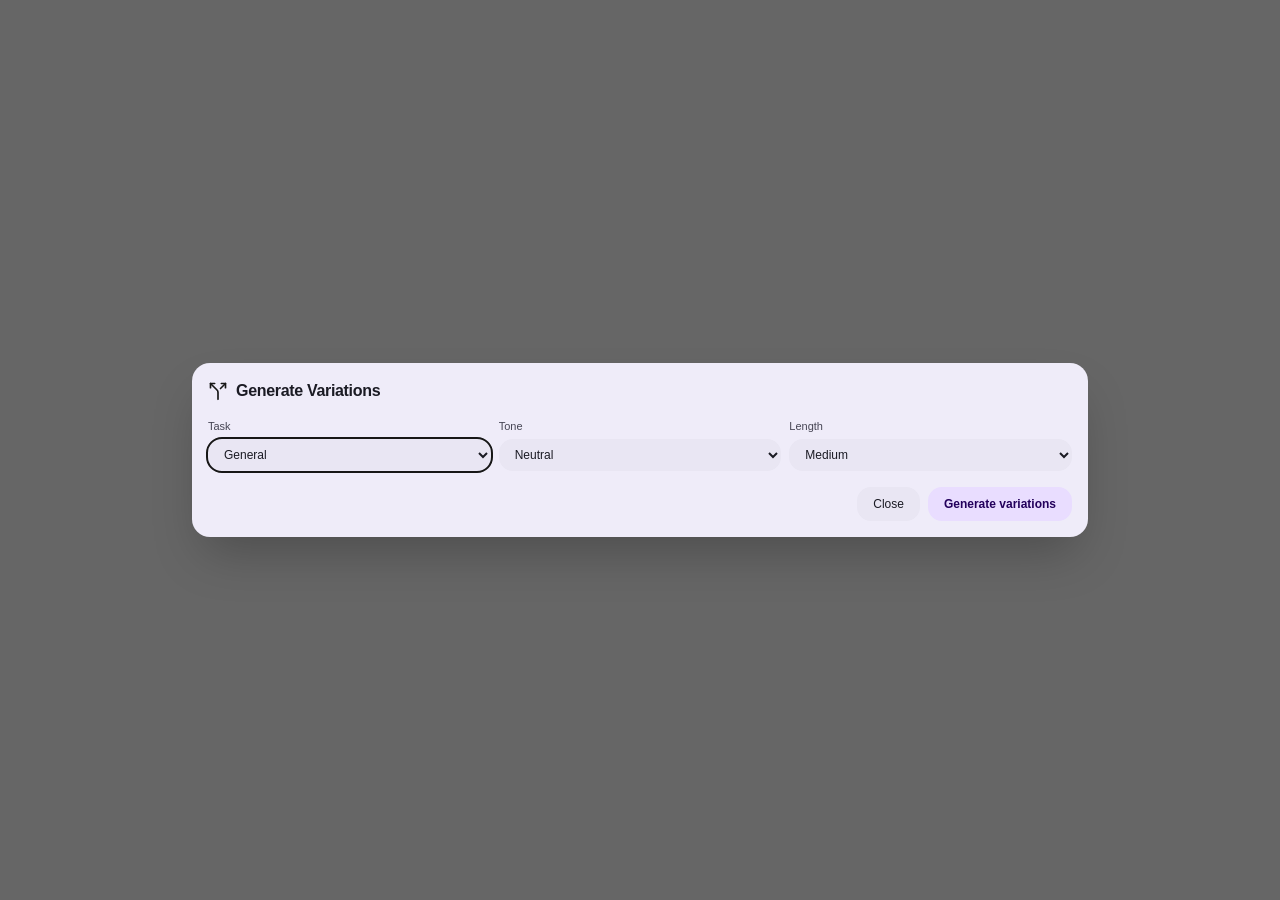
Test case: VariationsDialog › shows an error and offers to generate again
Step 1. Click the button "Generate variations" → (1000, 504), box [928, 487, 1072, 521]
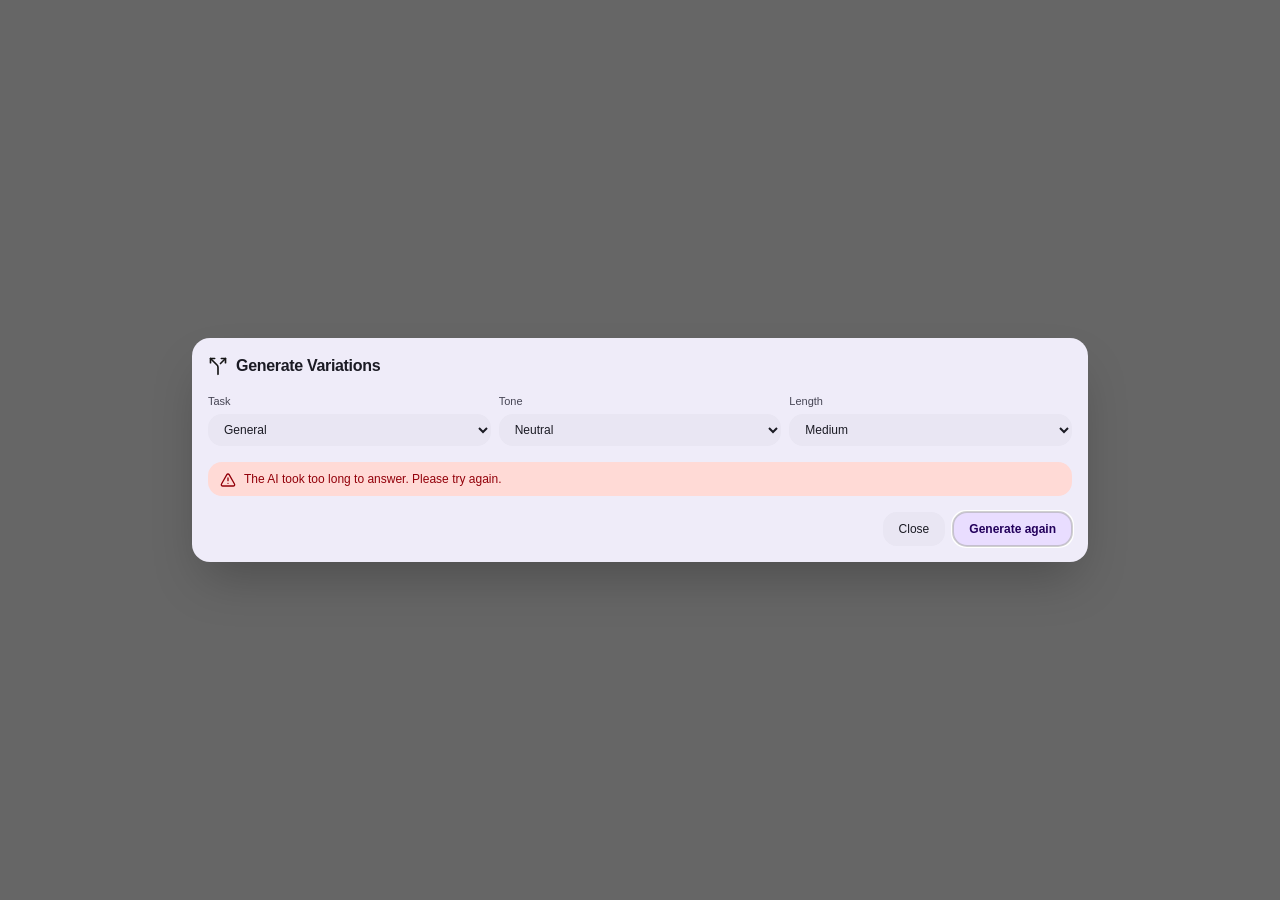
expect the button "Generate again" is enabled: met, box [953, 512, 1072, 546]
expect the message shows "took too long": met, box [244, 472, 502, 486]
